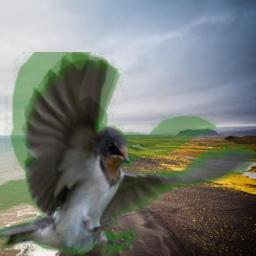Swallow: (0, 52, 256, 255)
